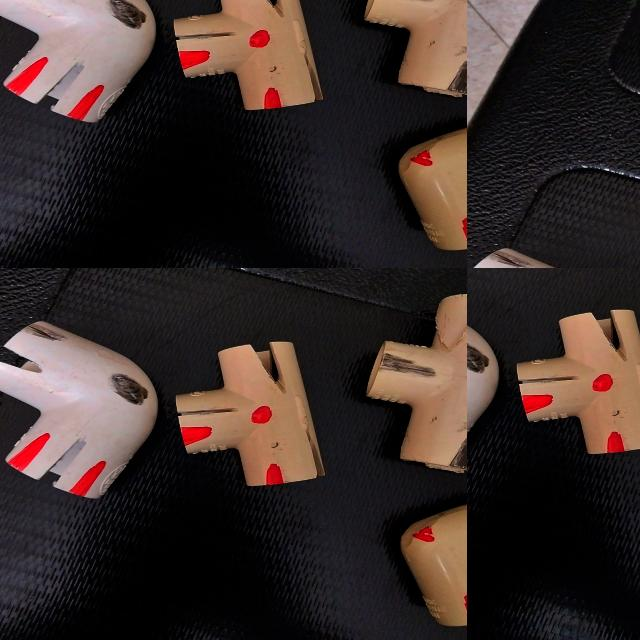Defective: (598, 314, 627, 356), (578, 376, 629, 397), (467, 346, 492, 375), (502, 38, 526, 66), (526, 393, 554, 414), (607, 433, 626, 453), (594, 374, 613, 392)
L Joint: (467, 289, 503, 468)
T Joint: (511, 307, 640, 457), (488, 6, 544, 74)
